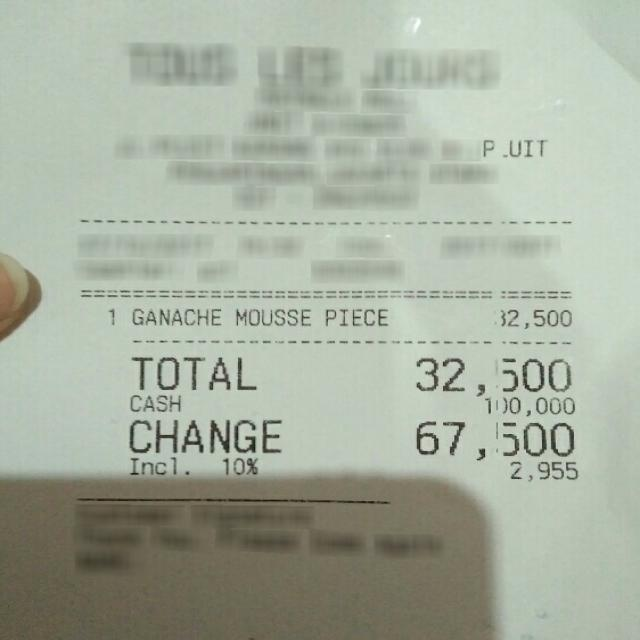text: (414, 418, 572, 463), (411, 354, 569, 395), (129, 418, 280, 453), (130, 354, 255, 389), (482, 395, 573, 415), (132, 307, 219, 324), (508, 459, 575, 479), (500, 308, 569, 326), (234, 308, 308, 324), (482, 139, 544, 158), (325, 308, 386, 324), (128, 457, 176, 476), (130, 394, 179, 409), (221, 457, 258, 474), (105, 306, 117, 326)
